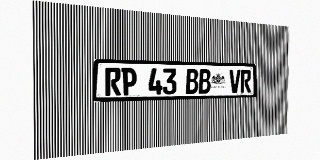3: (163, 68, 176, 95)
4: (148, 68, 162, 95)
B: (186, 69, 198, 94), (199, 69, 211, 94)
P: (121, 68, 137, 95)
R: (105, 67, 121, 96), (240, 70, 251, 93)
V: (229, 70, 240, 93)
